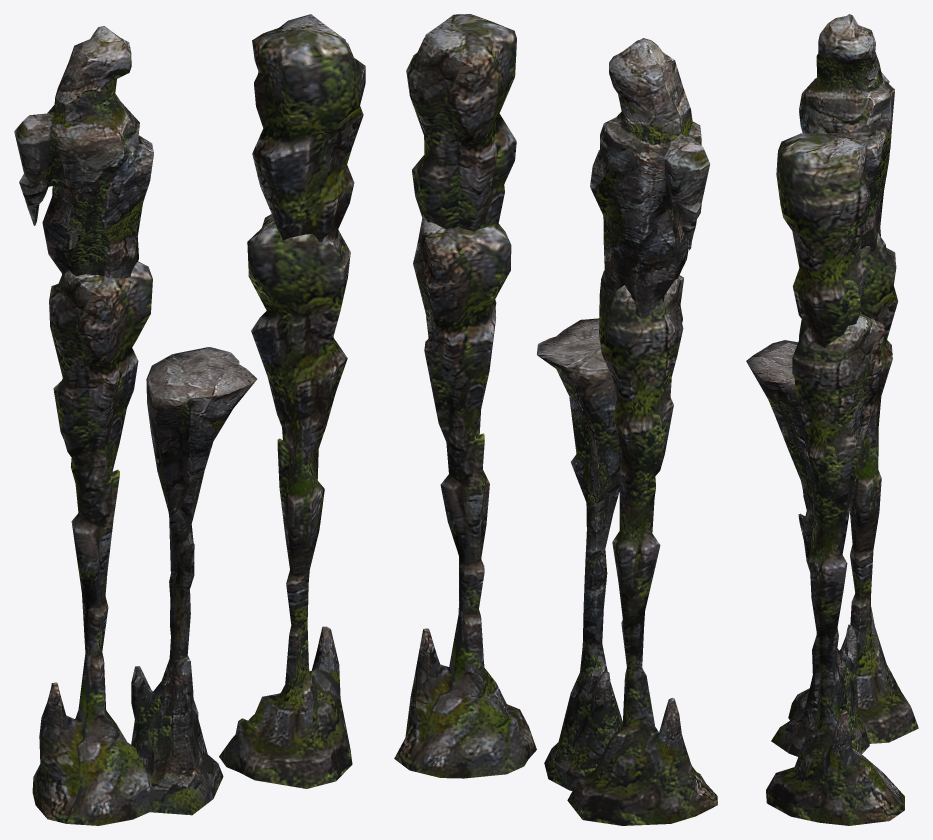
Rendered from Utility_Stone_Maincity12_01_LOD2.FBX.
The picture shows the model from 3 angles, left to right: view 1: azimuth 30°, elevation 25°; view 2: azimuth 150°, elevation 25°; view 3: azimuth 270°, elevation 25°; orthographic projection. The views are drawn at different scales.
Visible parts, largest first — view 1: Utility_Stone_Maincity12_01_LOD2; view 2: Utility_Stone_Maincity12_01_LOD2; view 3: Utility_Stone_Maincity12_01_LOD2.
Part boxes in pixels (x1,y1,x2,y2): Utility_Stone_Maincity12_01_LOD2: (14,14,365,825); Utility_Stone_Maincity12_01_LOD2: (394,14,717,825); Utility_Stone_Maincity12_01_LOD2: (746,14,918,825).
Bounding box in the file's own units: 9931 × 22586 × 5016.
